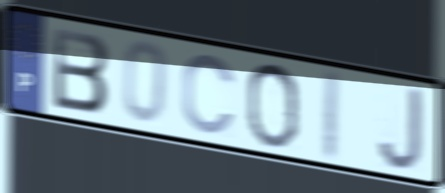0: (119, 38, 171, 128)
B: (49, 23, 112, 116)
C: (180, 51, 239, 138)
I: (318, 66, 344, 166)
J: (376, 84, 426, 174)
O: (244, 61, 302, 151)
